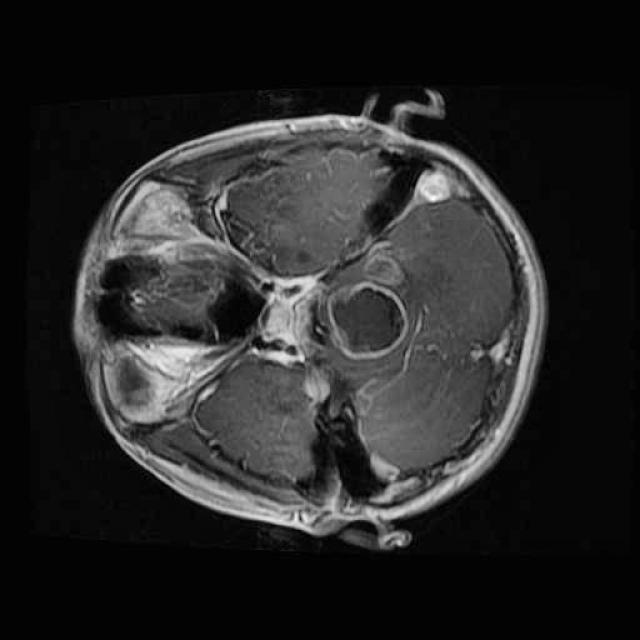Non-Tumor: (320, 241, 418, 365)
